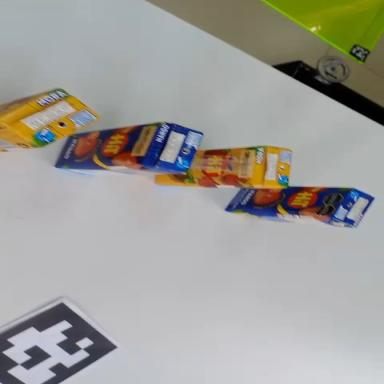HIT-MANGO: (55, 121, 203, 176), (226, 182, 375, 228)
HIT-MORA: (0, 80, 101, 156), (155, 145, 291, 188)
cara_F: (54, 122, 164, 167), (154, 146, 259, 188), (225, 185, 352, 217), (0, 76, 59, 121)
